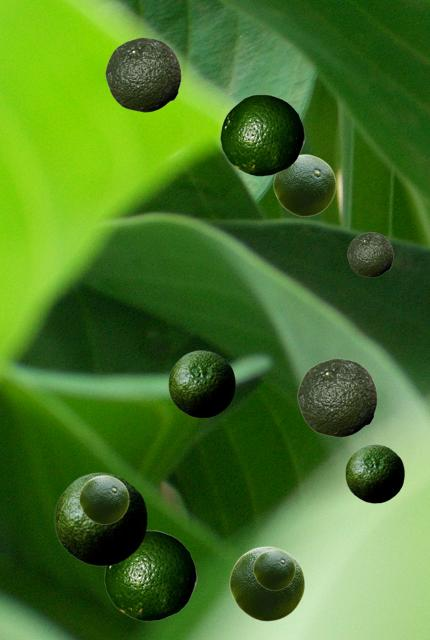calamansi: (54, 472, 146, 565), (104, 530, 196, 620), (220, 94, 304, 175), (297, 358, 376, 436), (229, 546, 304, 620), (105, 37, 180, 111), (168, 350, 234, 417), (273, 154, 335, 215), (345, 444, 403, 502), (79, 475, 128, 523), (347, 232, 392, 276), (253, 549, 294, 589)
